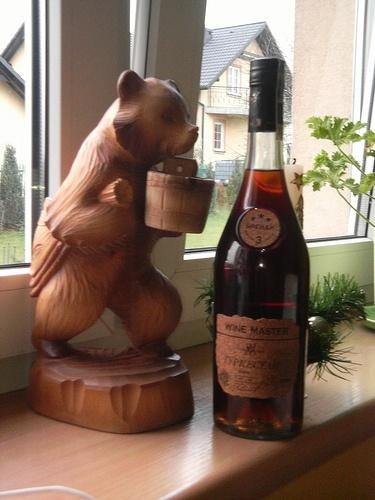bottle: (213, 59, 312, 442)
pottedplant: (195, 273, 367, 383), (303, 115, 375, 228)
